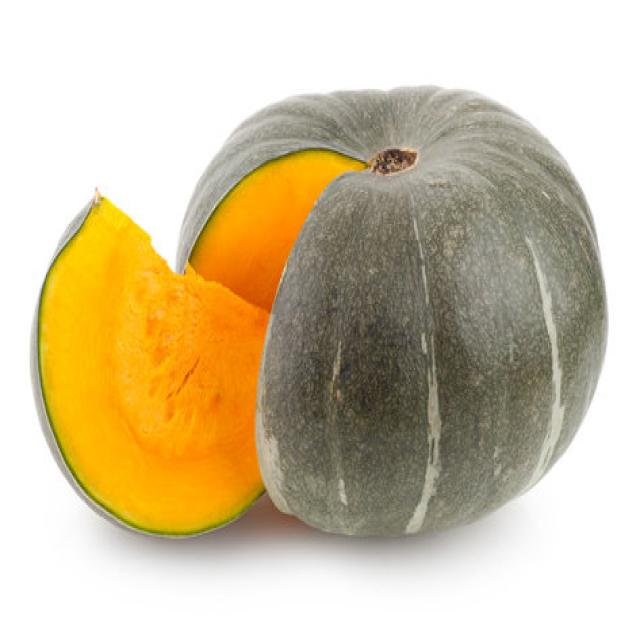Pumpkin: (173, 81, 609, 538), (30, 185, 272, 539)
